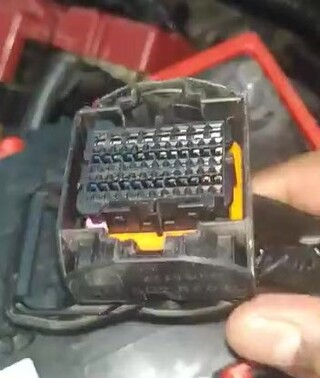connector: (56, 77, 255, 304)
